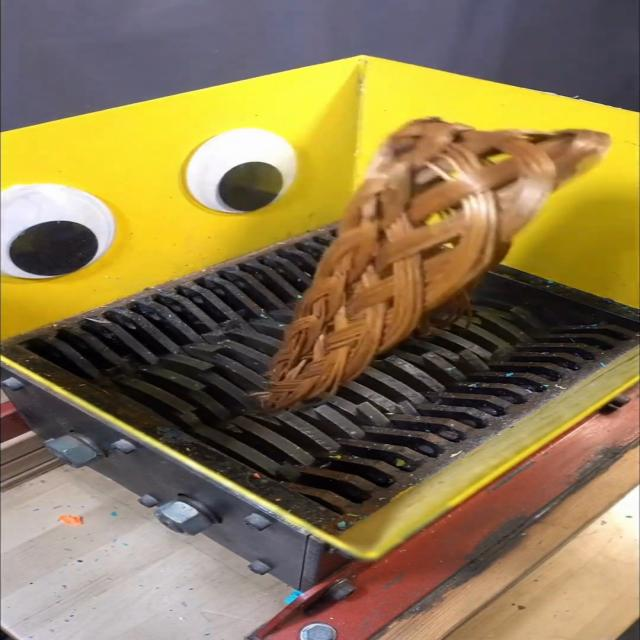Broyeur: (0, 207, 640, 543)
